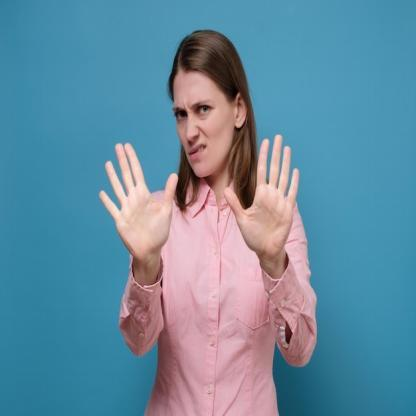stop: (99, 135, 182, 262), (222, 130, 301, 260)
